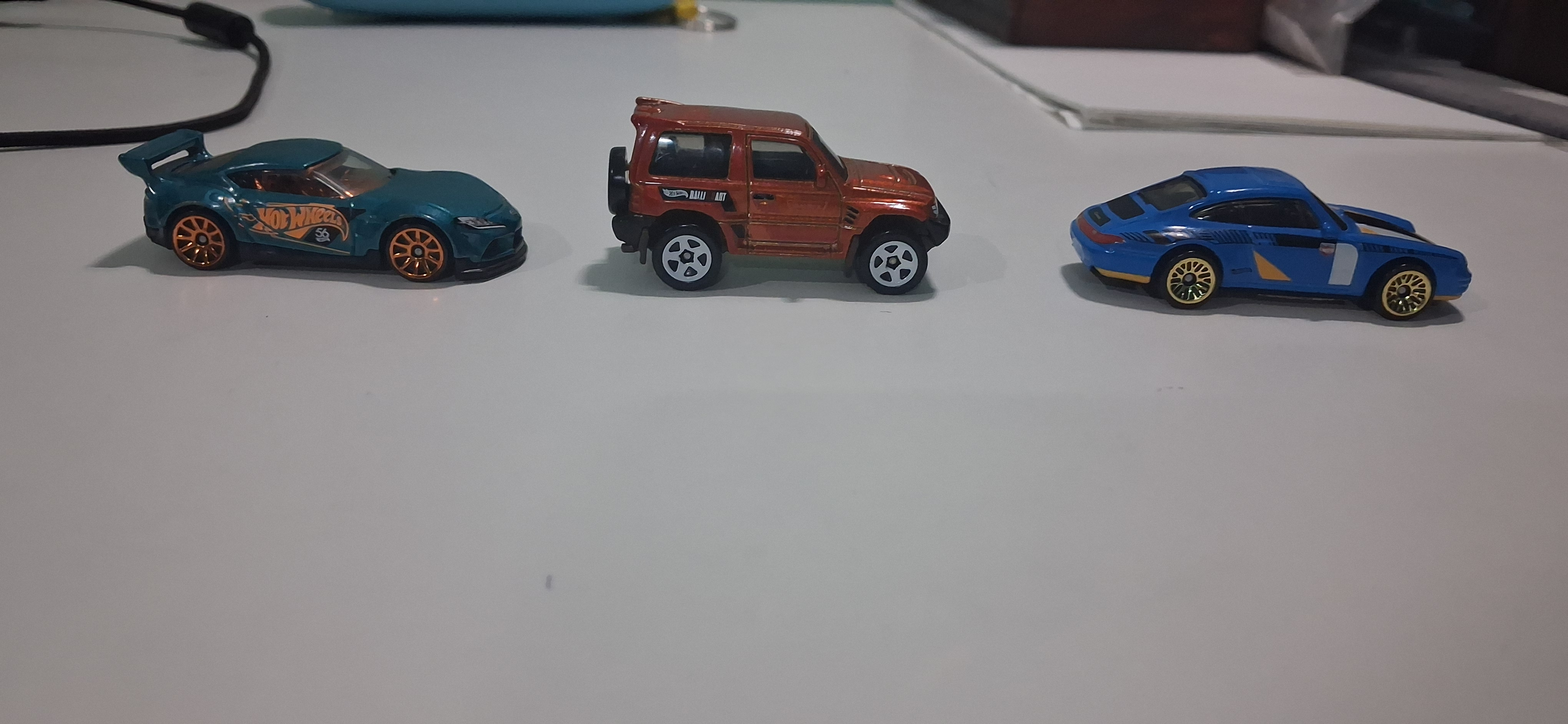Mitsubishi_Pajero_Evolution: (591, 83, 963, 316)
Porsche_Carrera: (1049, 139, 1500, 336)
Toyota_GR_Supra: (94, 101, 538, 293)
